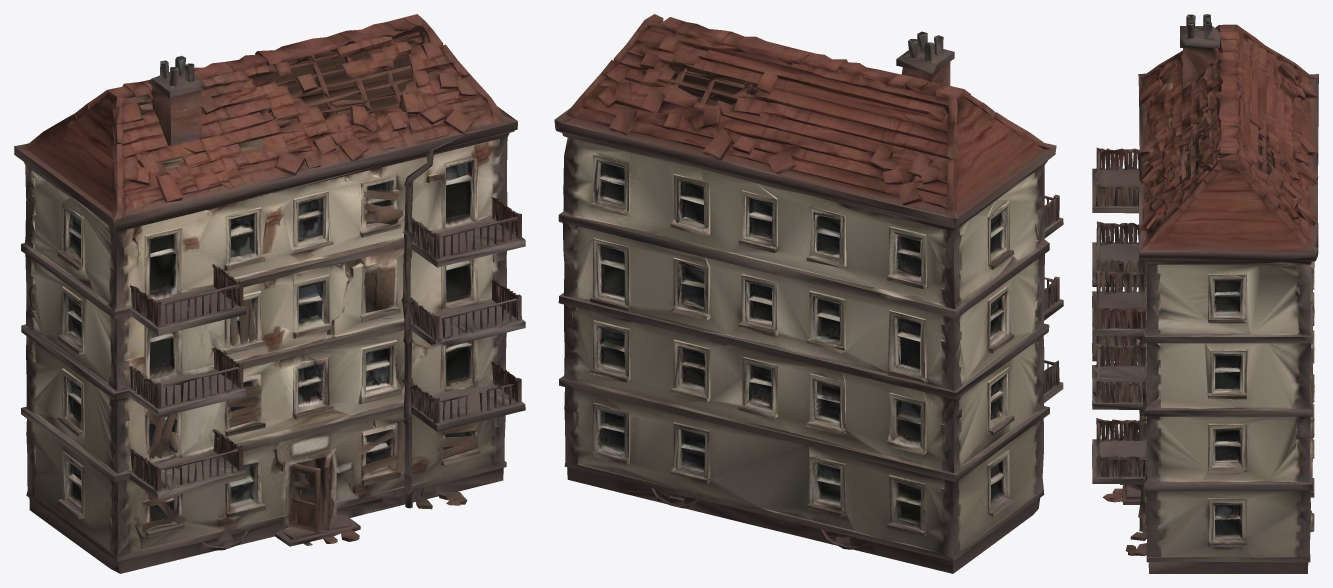
Rendered from apartments_c_idle.glb.
The picture shows the model from 3 angles, left to right: view 1: azimuth 30°, elevation 25°; view 2: azimuth 150°, elevation 25°; view 3: azimuth 270°, elevation 25°; orthographic projection. The views are drawn at different scales.
Visible parts, largest first — view 1: tripo_node_a538f4b9-e372-41f7-84d0-373e2a18db22; view 2: tripo_node_a538f4b9-e372-41f7-84d0-373e2a18db22; view 3: tripo_node_a538f4b9-e372-41f7-84d0-373e2a18db22.
Part boxes in pixels (box(x1,y1,x2,y2)): tripo_node_a538f4b9-e372-41f7-84d0-373e2a18db22: box(14, 14, 525, 573); tripo_node_a538f4b9-e372-41f7-84d0-373e2a18db22: box(554, 14, 1063, 573); tripo_node_a538f4b9-e372-41f7-84d0-373e2a18db22: box(1092, 14, 1318, 573).
Bounding box in the file's own units: 11.96 × 13.39 × 6.45.
1 material, 1 textured.
